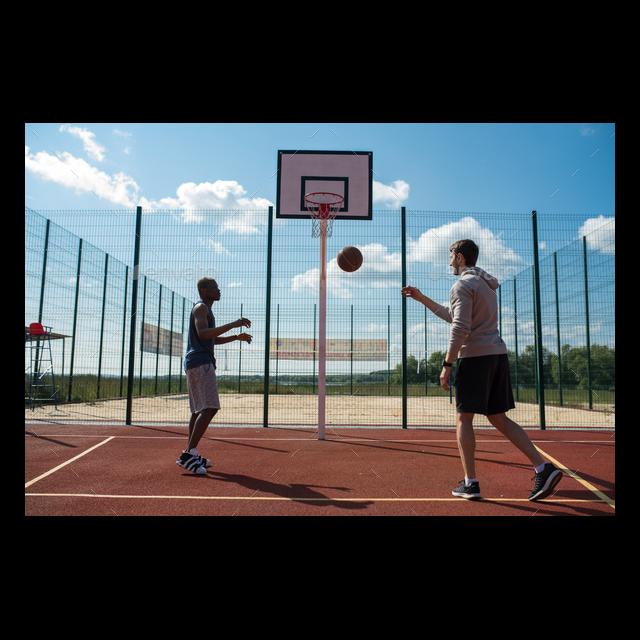basketball: (336, 246, 362, 274)
hoop: (306, 194, 343, 238)
